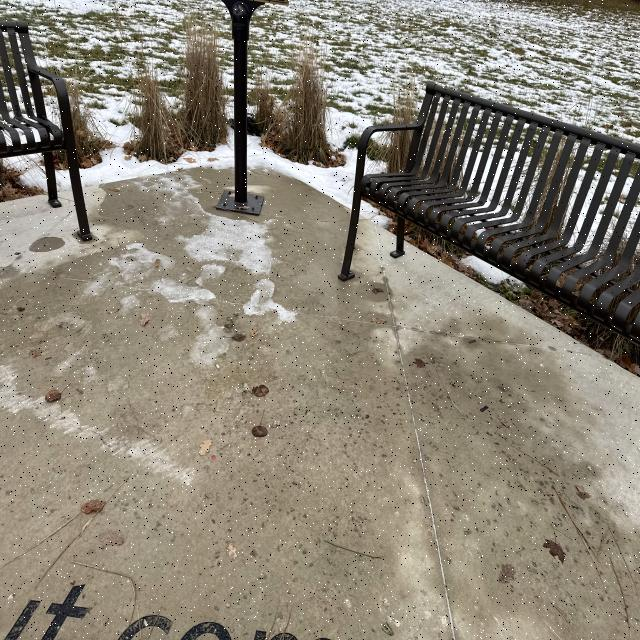Bench: (0, 12, 96, 232)
